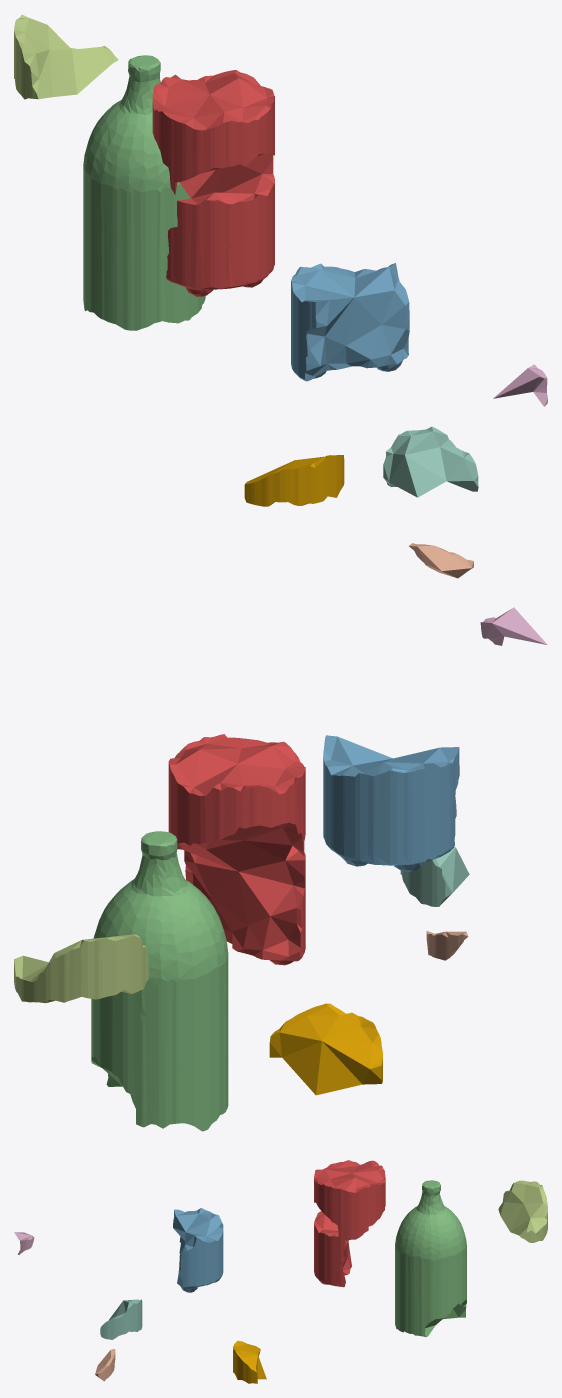
The model's file is fractured_14_8pcs_transformed.glb.
3 views of the same model, one above another, from view 1: azimuth 30°, elevation 25°; view 2: azimuth 150°, elevation 25°; view 3: azimuth 270°, elevation 25° (orthographic). The views are drawn at different scales.
Visible parts, largest first — view 1: piece_1.obj, piece_3.obj, piece_2.obj, piece_5.obj, piece_4.obj, piece_0.obj, piece_7.obj, piece_6.obj; view 2: piece_3.obj, piece_1.obj, piece_2.obj, piece_0.obj, piece_5.obj, piece_4.obj, piece_6.obj, piece_7.obj; view 3: piece_3.obj, piece_1.obj, piece_2.obj, piece_5.obj, piece_4.obj, piece_0.obj, piece_7.obj.
Boxes of the visible parts, x1=… form: piece_1.obj: x1=152, y1=70, x2=274, y2=296; piece_3.obj: x1=83, y1=55, x2=205, y2=330; piece_2.obj: x1=291, y1=263, x2=409, y2=381; piece_5.obj: x1=14, y1=14, x2=118, y2=99; piece_4.obj: x1=383, y1=426, x2=478, y2=497; piece_0.obj: x1=244, y1=455, x2=344, y2=506; piece_7.obj: x1=409, y1=543, x2=473, y2=578; piece_6.obj: x1=493, y1=364, x2=547, y2=406; piece_3.obj: x1=91, y1=831, x2=228, y2=1131; piece_1.obj: x1=168, y1=734, x2=305, y2=965; piece_2.obj: x1=323, y1=735, x2=459, y2=871; piece_0.obj: x1=269, y1=1003, x2=382, y2=1095; piece_5.obj: x1=14, y1=934, x2=149, y2=1003; piece_4.obj: x1=400, y1=847, x2=469, y2=906; piece_6.obj: x1=480, y1=607, x2=547, y2=645; piece_7.obj: x1=426, y1=931, x2=468, y2=960; piece_3.obj: x1=395, y1=1180, x2=466, y2=1336; piece_1.obj: x1=314, y1=1160, x2=385, y2=1287; piece_2.obj: x1=173, y1=1208, x2=223, y2=1292; piece_5.obj: x1=498, y1=1180, x2=547, y2=1242; piece_4.obj: x1=100, y1=1299, x2=142, y2=1339; piece_0.obj: x1=233, y1=1340, x2=266, y2=1383; piece_7.obj: x1=95, y1=1349, x2=115, y2=1381.
Bounding box in the file's own units: 0.2653 × 0.8548 × 1.97.
